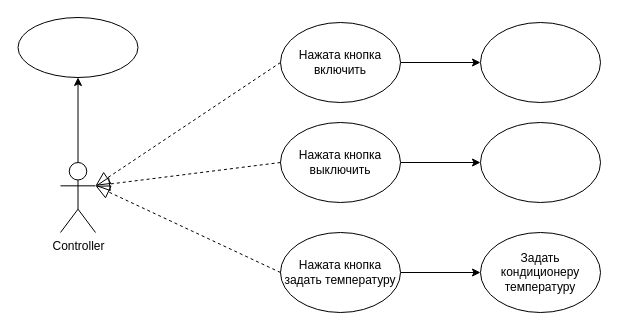
The diagram is 618 pixels wide and 330 high, and some of its shapes have lost their labels. Each missing label, with the centre of its shape:
"Включить кондиционер" belongs at (540,62).
"Выключить кондиционер" belongs at (540,162).
"Управлять кондиционером" belongs at (77,47).
